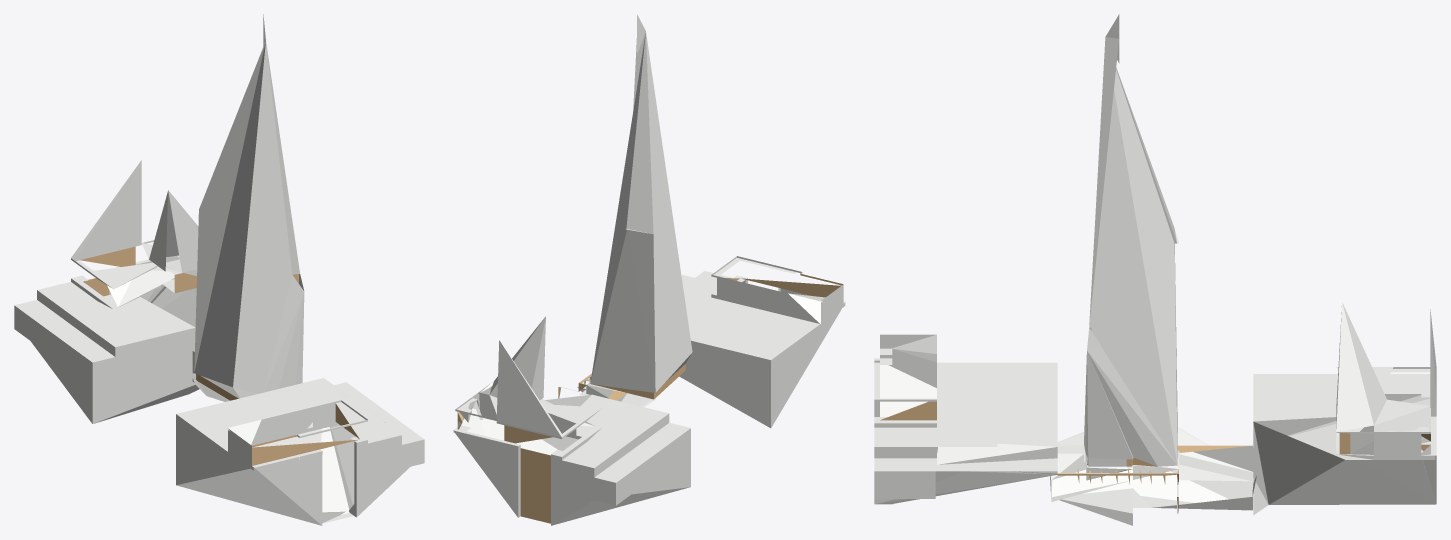
File: nest-one-far.glb
3 views of the same model, side by side, from view 1: azimuth 30°, elevation 25°; view 2: azimuth 150°, elevation 25°; view 3: azimuth 270°, elevation 25° (orthographic). The views are drawn at different scales.
Visible parts, largest first — view 1: Cube_2__0; view 2: Cube_2__0; view 3: Cube_2__0.
Part boxes in pixels (left/top/right/bottom): Cube_2__0: left=14, top=14, right=424, bottom=525; Cube_2__0: left=453, top=14, right=845, bottom=525; Cube_2__0: left=874, top=14, right=1436, bottom=525.
Bounding box in the file's own units: 5 × 11.9 × 12.2.
1 material, 1 textured.
